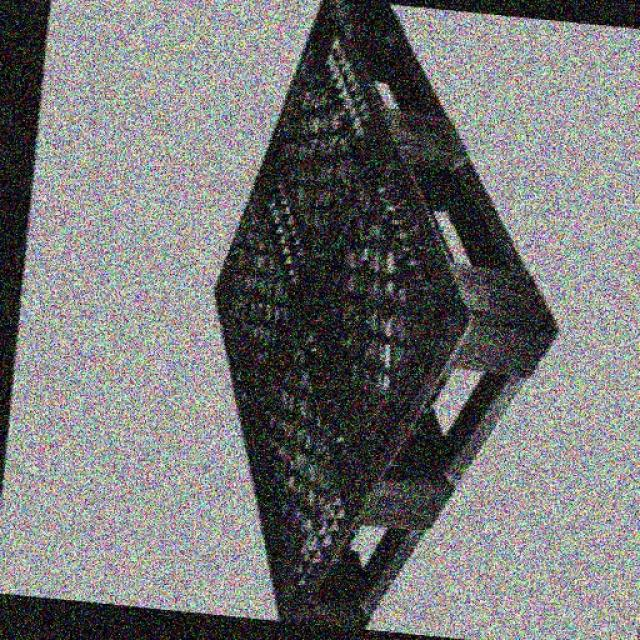non-igps: (195, 0, 566, 632)
